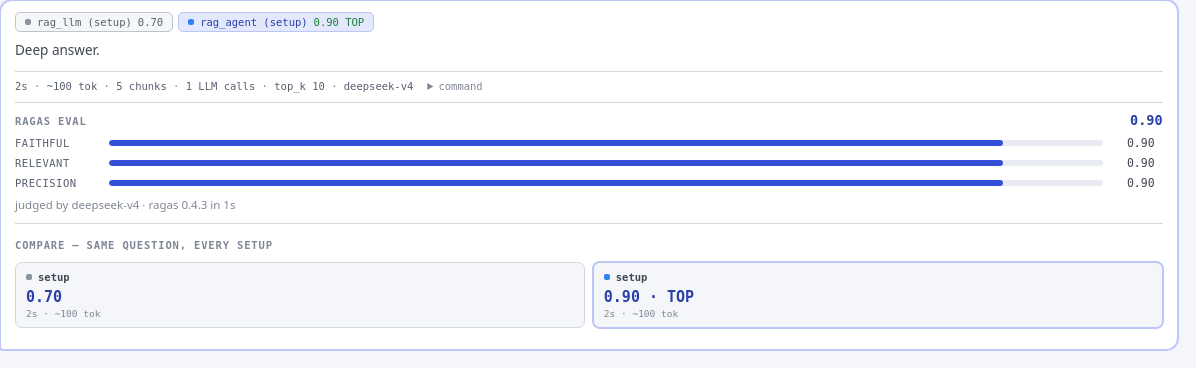
it: MessageBubble › switches the visible answer when another tab is clicked
What coordinates should you click on to do the following:
click the tab "rag_llm (setup) 0.70"
I would click on:
 (94, 22)
Its box is [15, 12, 173, 32].
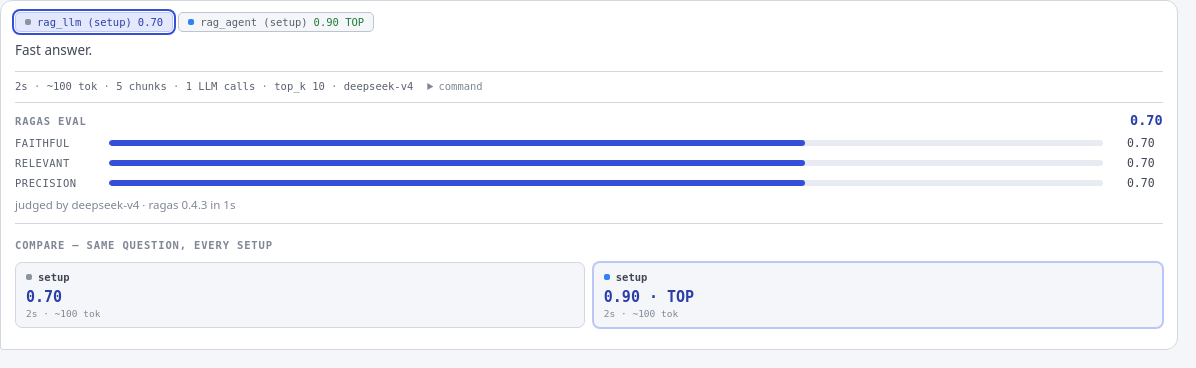
Expected: the text "Fast answer." is shown, [15, 41, 92, 59]
Expected: the text "Deep answer" is gone
